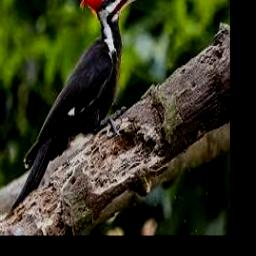Woodpecker: (9, 0, 148, 213)
